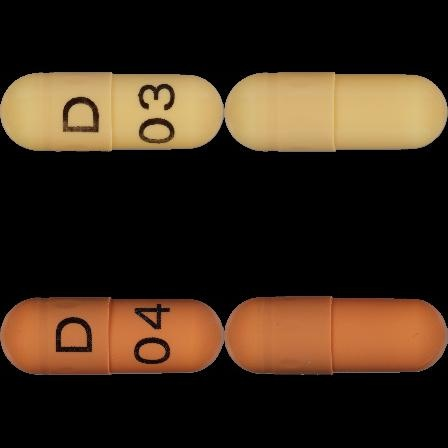16714-662: (0, 0, 224, 224)
